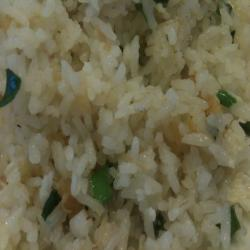rice: (3, 11, 222, 228)
